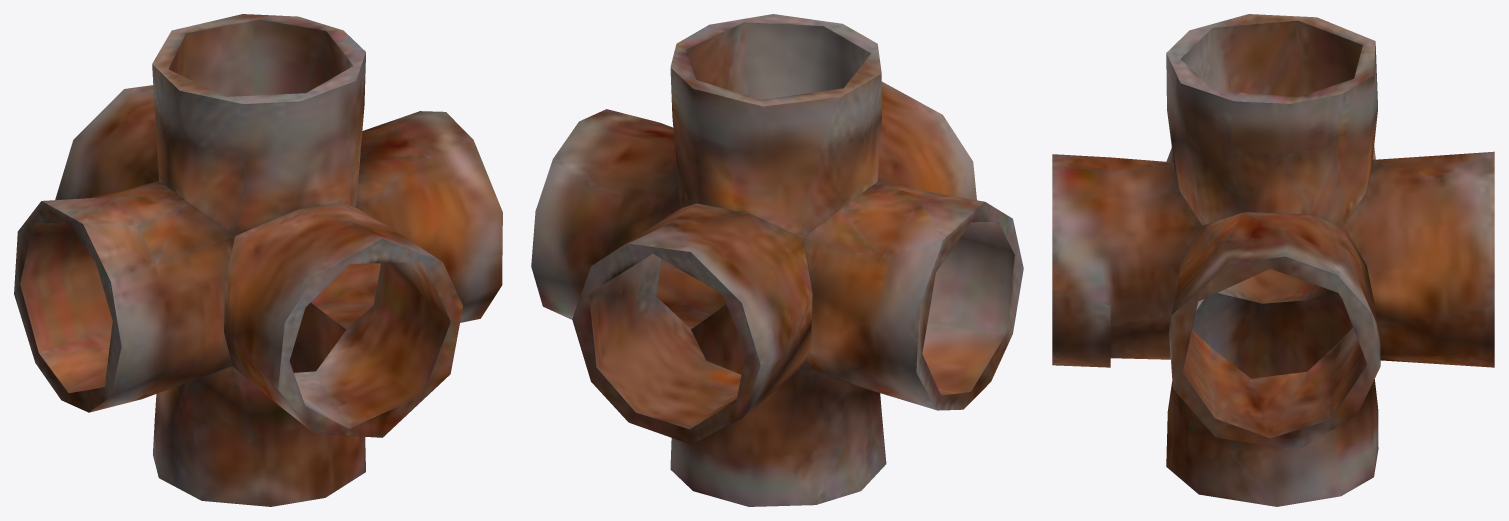
Rendered from small_steel_pipe_17.glb.
3 renders of one model, left to right at view 1: azimuth 30°, elevation 25°; view 2: azimuth 150°, elevation 25°; view 3: azimuth 270°, elevation 25°, orthographic.
Parts seen in each view (by area): view 1: small_steel_pipe_17; view 2: small_steel_pipe_17; view 3: small_steel_pipe_17.
Part boxes in pixels (<box>): small_steel_pipe_17: <box>14,14,502,506</box>; small_steel_pipe_17: <box>531,14,1023,506</box>; small_steel_pipe_17: <box>1052,14,1494,506</box>.
Size of what is drawn, in the model's own units: 0.0446 by 0.0446 by 0.0444.
Materials: 1 (1 with a texture image).
